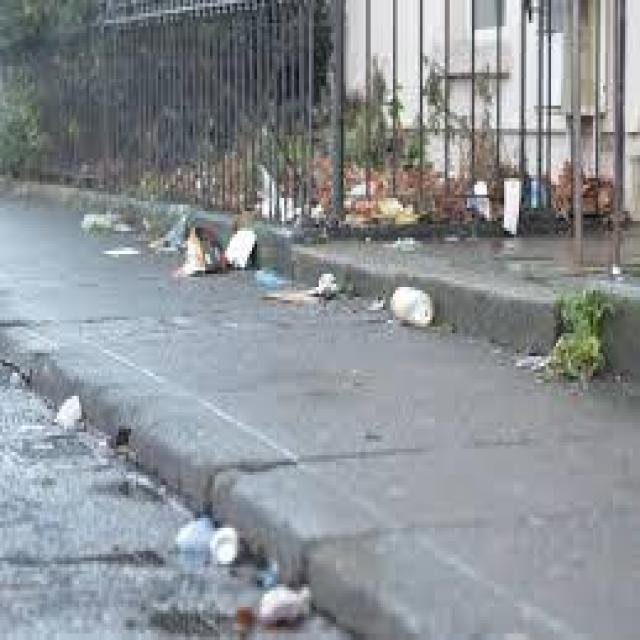curb: (1, 281, 572, 640)
